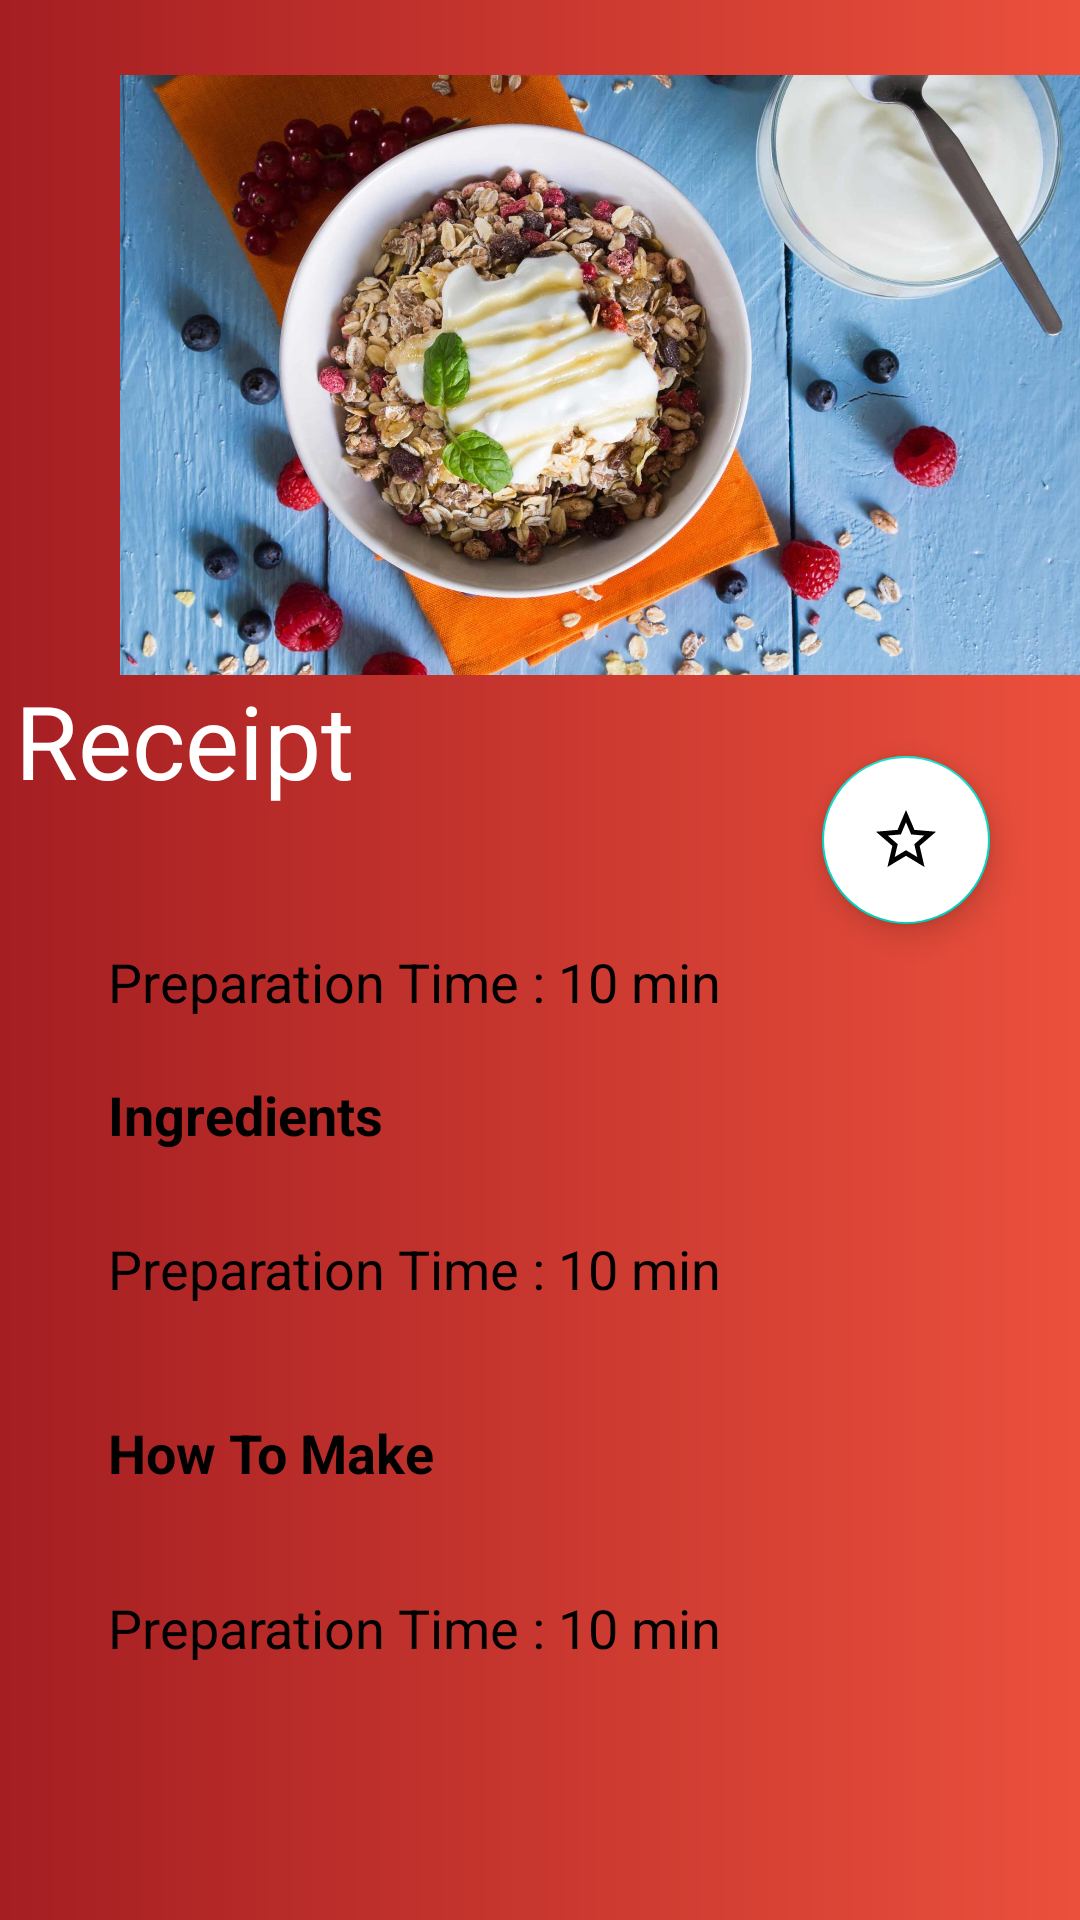

Icons on this 1080x1920 Android screen, each with its box as (x1, y1, x2, y2):
star border: (822, 756, 990, 924)
